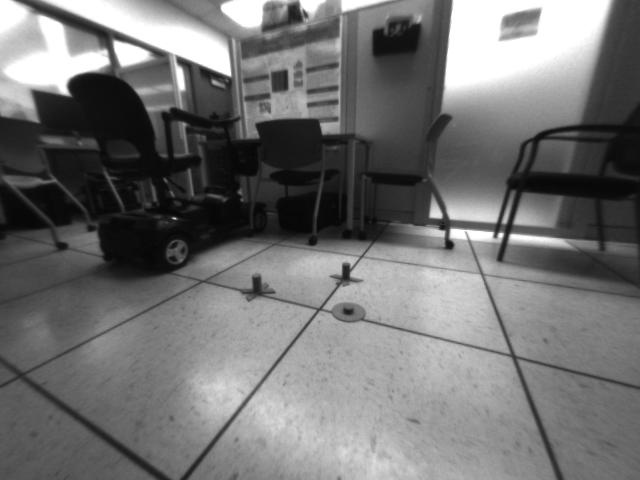X: (238, 270, 278, 301), (331, 260, 363, 288)
